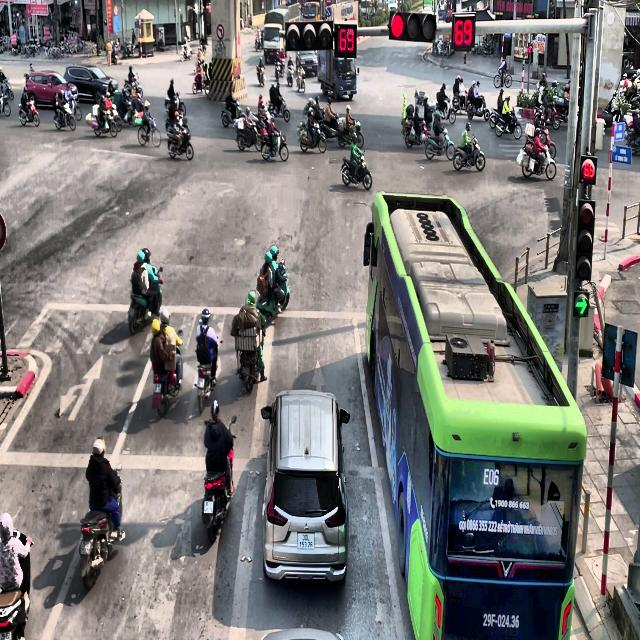BUS: (362, 191, 586, 639)
CAR: (260, 389, 350, 584), (64, 65, 117, 103), (26, 70, 78, 108)
MOTORBIKE: (79, 463, 124, 591), (202, 416, 236, 543), (0, 529, 33, 639), (128, 267, 163, 334), (234, 324, 266, 392), (194, 339, 222, 414), (152, 348, 182, 418), (521, 134, 556, 181), (453, 132, 485, 171), (341, 152, 372, 190), (166, 123, 194, 160), (233, 114, 261, 151), (425, 126, 455, 160), (296, 120, 326, 154), (261, 128, 288, 162), (100, 92, 122, 132), (91, 106, 117, 138), (53, 96, 76, 132), (495, 109, 522, 139), (138, 113, 161, 148), (337, 119, 364, 148), (534, 100, 560, 130), (404, 119, 429, 148), (18, 96, 40, 126), (266, 95, 290, 122), (434, 96, 456, 124), (221, 100, 243, 128), (467, 95, 489, 121), (192, 64, 210, 95), (164, 92, 186, 117), (123, 73, 143, 98), (451, 88, 469, 114), (493, 64, 512, 88), (0, 83, 11, 116), (274, 57, 285, 79), (296, 67, 305, 92), (256, 64, 266, 86), (180, 43, 192, 61), (286, 65, 293, 86)
TRAFFIC_LIGHT: (575, 197, 595, 281), (284, 19, 334, 51), (388, 10, 436, 41), (452, 12, 475, 50), (334, 23, 356, 58), (579, 155, 597, 185)
